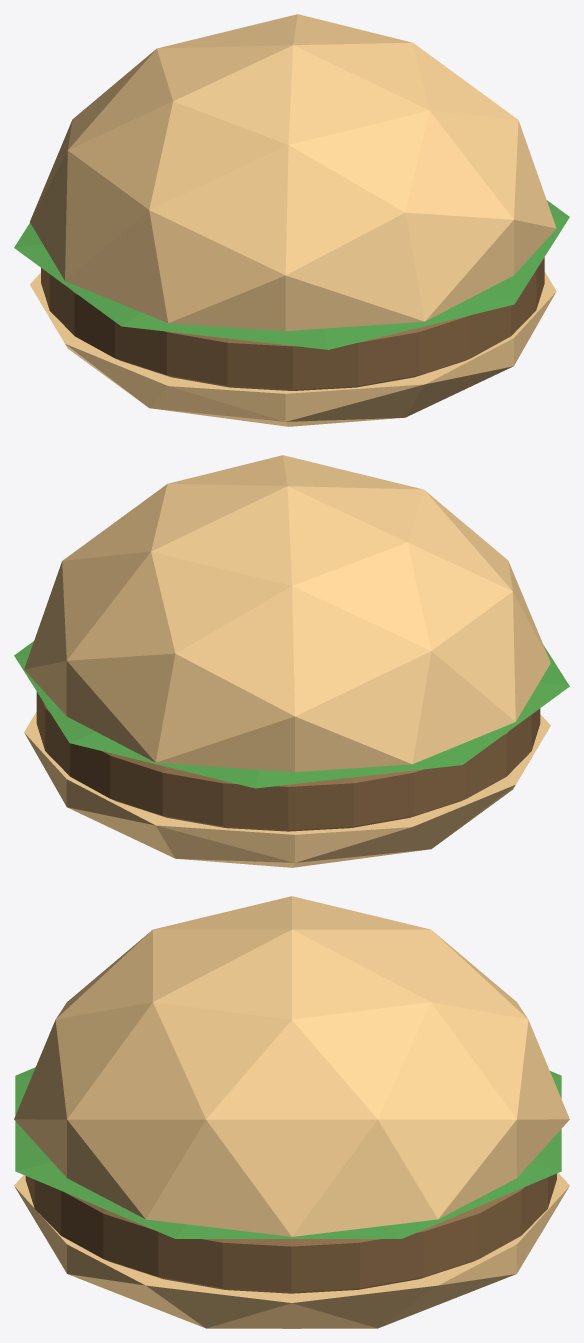
The model's file is Burger 3.glb.
The picture shows the model from 3 angles, top to bottom: view 1: azimuth 30°, elevation 25°; view 2: azimuth 150°, elevation 25°; view 3: azimuth 270°, elevation 25°; orthographic projection. The views are drawn at different scales.
Parts seen in each view (by area): view 1: Burger 3; view 2: Burger 3; view 3: Burger 3.
Part boxes in pixels (x1,y1,x2,y2): Burger 3: [14, 14, 569, 426]; Burger 3: [14, 455, 569, 867]; Burger 3: [14, 896, 569, 1328].
Size of the model in its own units: 0.9025 by 0.6302 by 0.9025.
